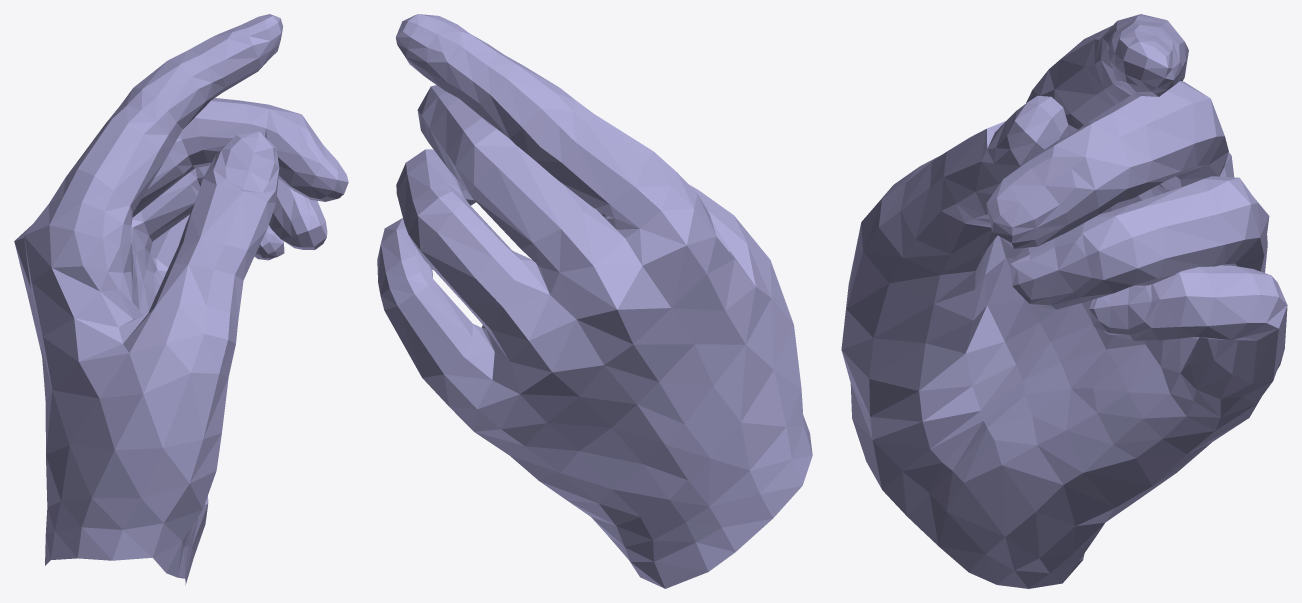
The model's file is hand_0046.glb.
3 renders of one model, left to right at view 1: azimuth 30°, elevation 25°; view 2: azimuth 150°, elevation 25°; view 3: azimuth 270°, elevation 25°, orthographic. The views are drawn at different scales.
Parts seen in each view (by area): view 1: world; view 2: world; view 3: world.
Part boxes in pixels (<box>): world: <box>14,14,348,585</box>; world: <box>377,14,812,588</box>; world: <box>841,14,1287,588</box>.
Size of the model in its own units: 0.098 by 0.1496 by 0.0924.
